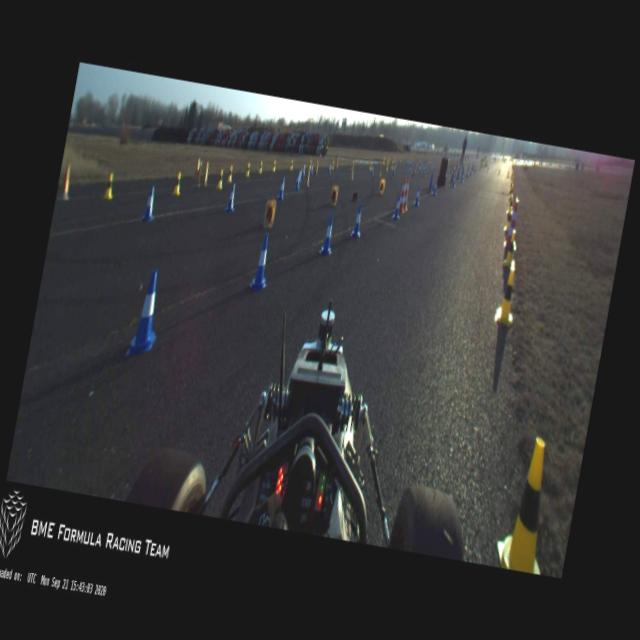blue_cone: (125, 267, 168, 359), (250, 233, 274, 290), (319, 213, 337, 254), (140, 184, 158, 223), (350, 204, 365, 238), (225, 182, 238, 214), (392, 192, 402, 218), (276, 176, 286, 201), (412, 184, 421, 206), (294, 170, 302, 190), (431, 178, 439, 196), (297, 166, 303, 182), (300, 164, 306, 178), (459, 170, 465, 182), (451, 174, 456, 188), (327, 162, 332, 175), (310, 162, 314, 175), (422, 162, 426, 174), (466, 167, 470, 178), (408, 164, 412, 175), (370, 164, 374, 174), (391, 165, 395, 175), (404, 157, 408, 167), (418, 165, 422, 174), (469, 167, 472, 176), (473, 164, 476, 173)
large_orange_cone: (502, 200, 522, 250), (396, 173, 409, 214), (401, 176, 413, 210)
yellow_cone: (492, 434, 564, 574), (493, 260, 522, 326), (502, 228, 518, 268), (103, 172, 116, 202), (172, 172, 182, 196), (503, 208, 512, 232), (506, 196, 516, 215), (216, 168, 224, 190), (226, 164, 234, 182), (244, 162, 251, 178), (508, 182, 514, 199), (270, 158, 276, 172), (288, 158, 294, 172), (258, 160, 264, 173), (349, 158, 354, 170), (393, 158, 398, 168), (368, 161, 372, 171), (330, 160, 334, 169), (506, 170, 510, 179), (390, 160, 393, 168), (497, 168, 500, 175), (386, 162, 388, 170)
